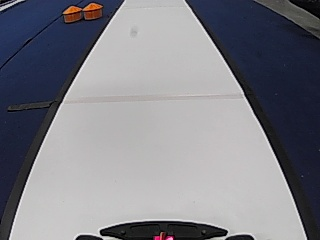granary: (61, 4, 81, 23), (83, 3, 102, 20)
